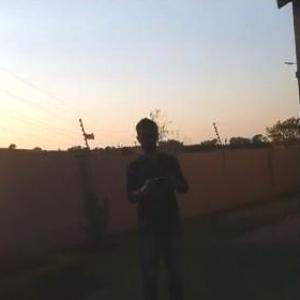follow: (122, 113, 195, 299)
